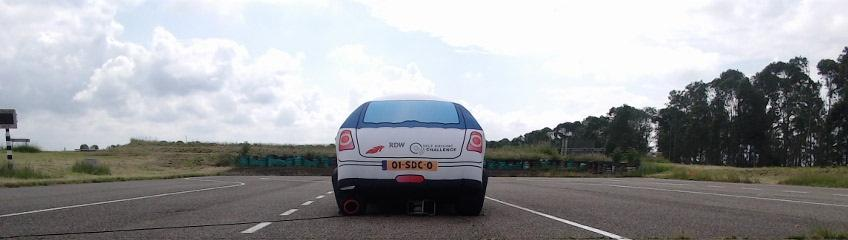Car: (332, 92, 488, 217)
